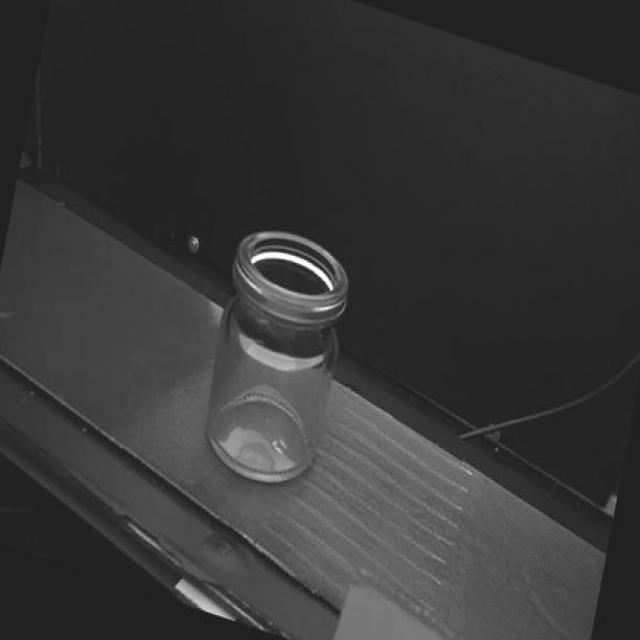defect: (253, 337, 266, 346)
glass: (192, 214, 357, 498)
